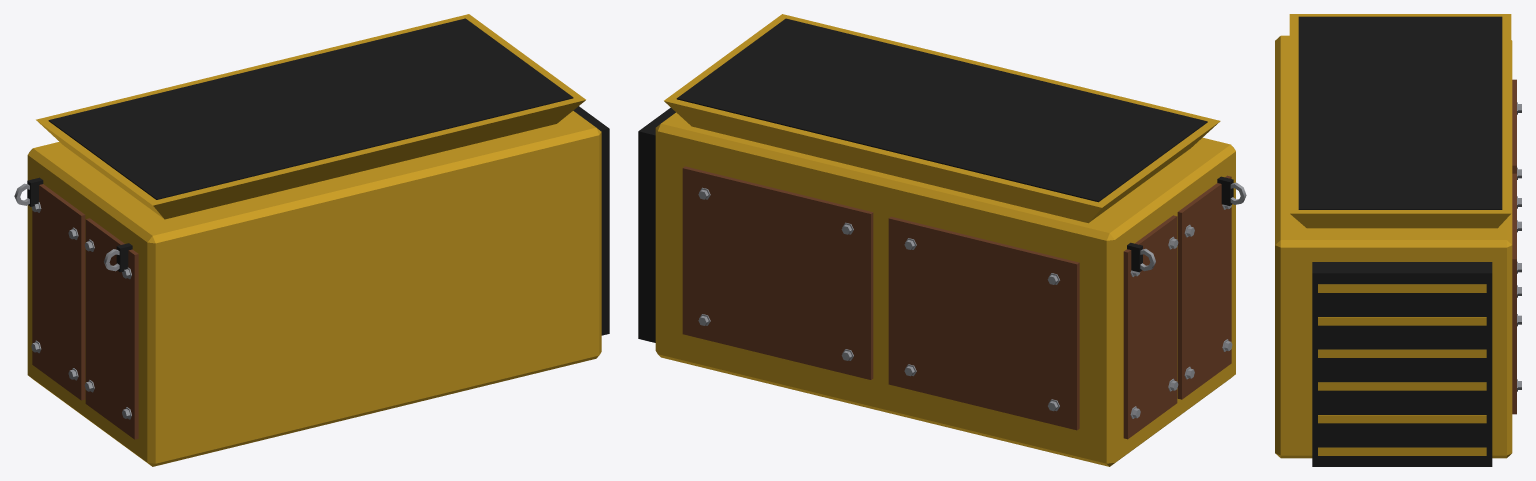
File: md40_feed.obj
3 views of the same model, side by side, from view 1: azimuth 30°, elevation 25°; view 2: azimuth 150°, elevation 25°; view 3: azimuth 270°, elevation 25° (orthographic). The views are drawn at different scales.
Visible parts, largest first — view 1: md40_feed; view 2: md40_feed; view 3: md40_feed.
Boxes of the visible parts, x1,y1,x2,y2 form: md40_feed: (14,14,609,466); md40_feed: (638,14,1246,466); md40_feed: (1275,14,1521,466).
Bounding box in the file's own units: 4.9 × 2.39 × 2.19.
